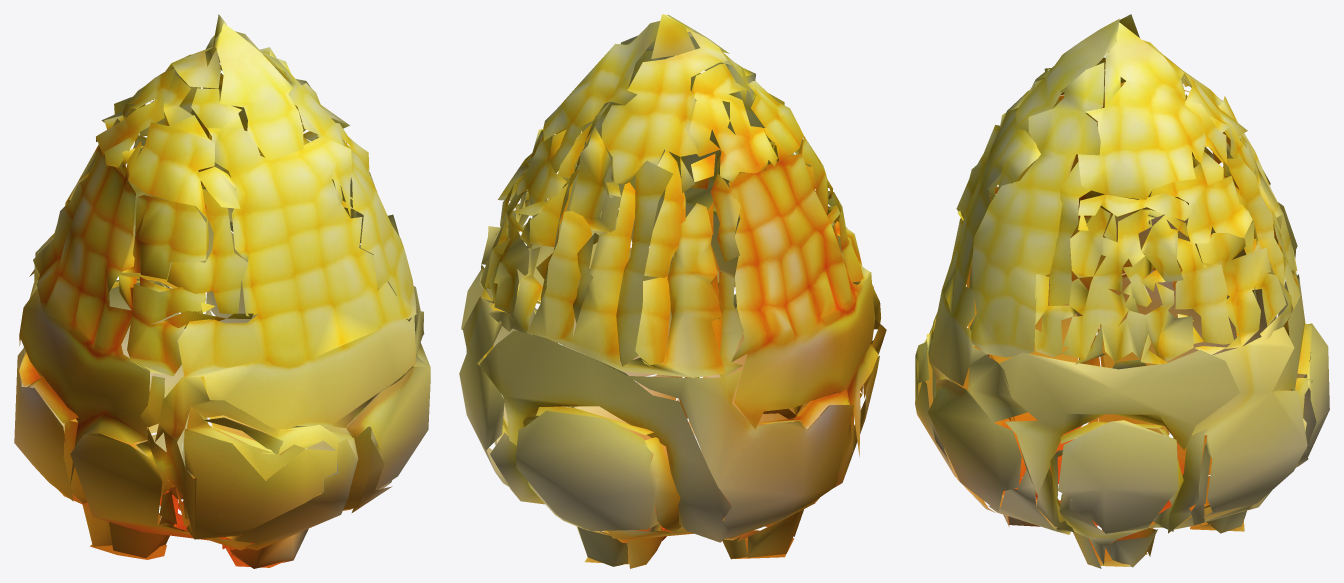
Rendered from food_pile_large.fbx.
3 views of the same model, side by side, from view 1: azimuth 30°, elevation 25°; view 2: azimuth 150°, elevation 25°; view 3: azimuth 270°, elevation 25° (orthographic).
Parts seen in each view (by area): view 1: food_pile_large; view 2: food_pile_large; view 3: food_pile_large.
Part boxes in pixels (x1=…): food_pile_large: x1=14, y1=14, x2=430, y2=568; food_pile_large: x1=459, y1=14, x2=886, y2=568; food_pile_large: x1=915, y1=14, x2=1329, y2=568.
Bounding box in the file's own units: 0.9638 × 1.31 × 0.9639.
1 material, 1 textured.
